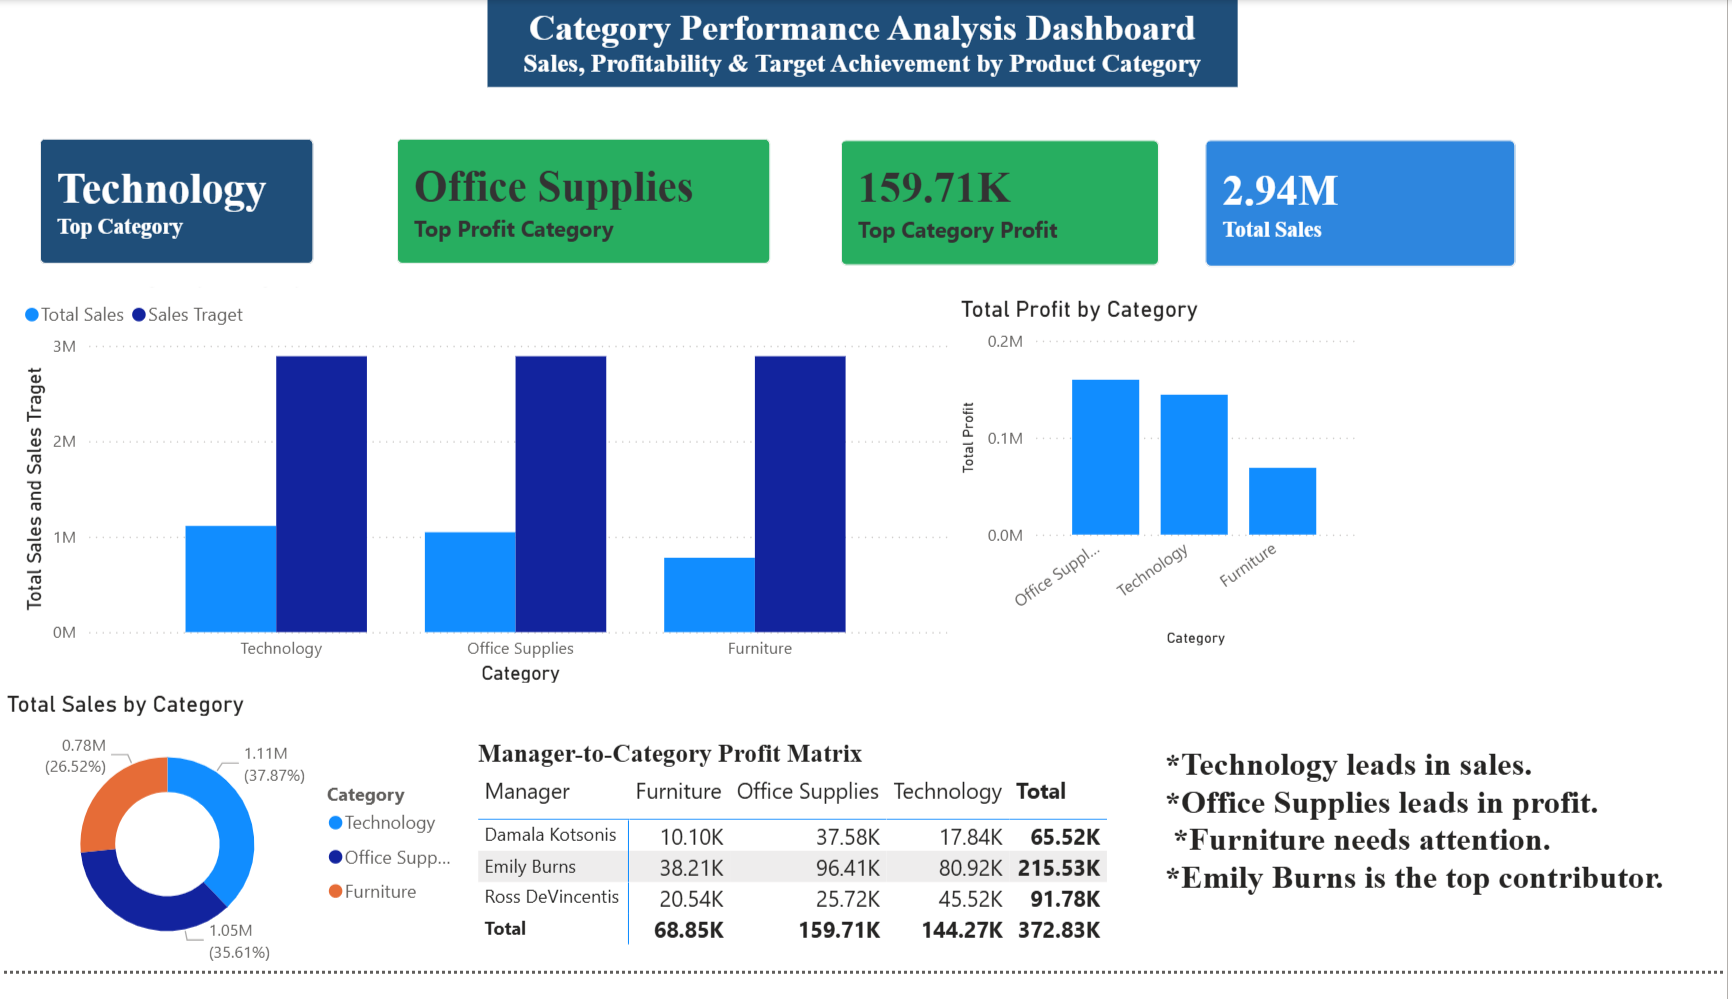

This screenshot's page, from the dashboard's own definition file:
{"tool":"powerbi","page":{"name":"Category Analysis","canvas":[1280,720],"ordinal":3},"visuals":[{"type":"donutChart","fields":{"Category":["Fact_orders.Category"],"Y":["Date.Total Sales"]},"box":[0,511,349.5,208.9],"z":0},{"type":"columnChart","fields":{"Category":["Fact_orders.Category"],"Y":["Date.Total Profit"]},"box":[706.8,219.4,302.2,264.1],"z":1000},{"type":"clusteredColumnChart","title":"Sales vs Target by Category","fields":{"Y":["Date.Total Sales","Date.Sales Traget"],"Category":["Fact_orders.Category"]},"box":[11.8,193.1,697.6,317.9],"z":2000},{"type":"textbox","box":[361.3,0,555.7,64.4],"z":3000},{"type":"cardVisual","title":"Highest Category Sales","fields":{"Data":["Fact_orders.Top Category"]},"box":[11.8,85.4,237.8,127.4],"z":4000},{"type":"cardVisual","fields":{"Data":["Fact_orders.Top Profit Category"]},"box":[277.2,85.4,311.4,127.4],"z":5000},{"type":"pivotTable","title":"Manager-to-Category Profit Matrix","fields":{"Rows":["People.Manager"],"Columns":["Fact_orders.Category"],"Values":["Date.Total Profit"]},"box":[349.5,547.8,551.8,172.1],"z":6000},{"type":"cardVisual","fields":{"Data":["Fact_orders.Top Category Profit"]},"box":[605.6,86.7,270.6,127.4],"z":7000},{"type":"cardVisual","title":"Highest Category Sales","fields":{"Data":["Date.Total Sales"]},"box":[876.3,86.7,264.1,128.7],"z":8000},{"type":"textbox","box":[857.9,546.5,419.1,173.4],"z":9000}]}

Visuals, with their boxes in screenshot pixels (x1, y1, x2, y2), scaled from the page's 1280x720 canvas onto the 1732x999 screenshot:
donutChart - Fact_orders.Category x Date.Total Sales: select_region(0, 709, 473, 998)
columnChart - Fact_orders.Category x Date.Total Profit: select_region(956, 304, 1365, 671)
"Sales vs Target by Category" clusteredColumnChart: select_region(16, 268, 960, 709)
textbox: select_region(489, 0, 1241, 89)
"Highest Category Sales" cardVisual: select_region(16, 118, 338, 295)
cardVisual - Fact_orders.Top Profit Category: select_region(375, 118, 796, 295)
"Manager-to-Category Profit Matrix" pivotTable: select_region(473, 760, 1220, 998)
cardVisual - Fact_orders.Top Category Profit: select_region(819, 120, 1186, 297)
"Highest Category Sales" cardVisual: select_region(1186, 120, 1543, 299)
textbox: select_region(1161, 758, 1728, 998)
